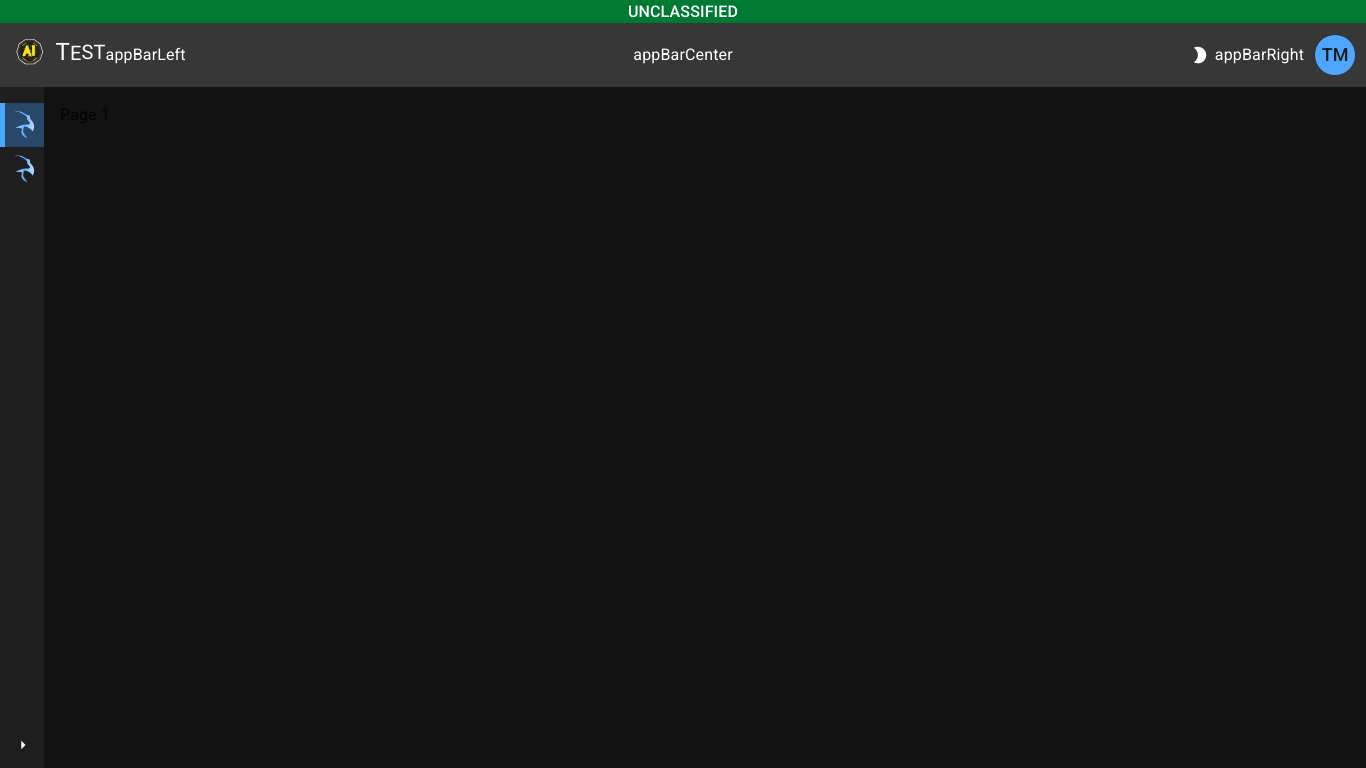
MainLayoutTest › opens user menu
This screenshot has width=1366, height=768.
Click the button with test id "user-menu-button".
click(1335, 55)  # box left=1320, top=40, right=1350, bottom=70
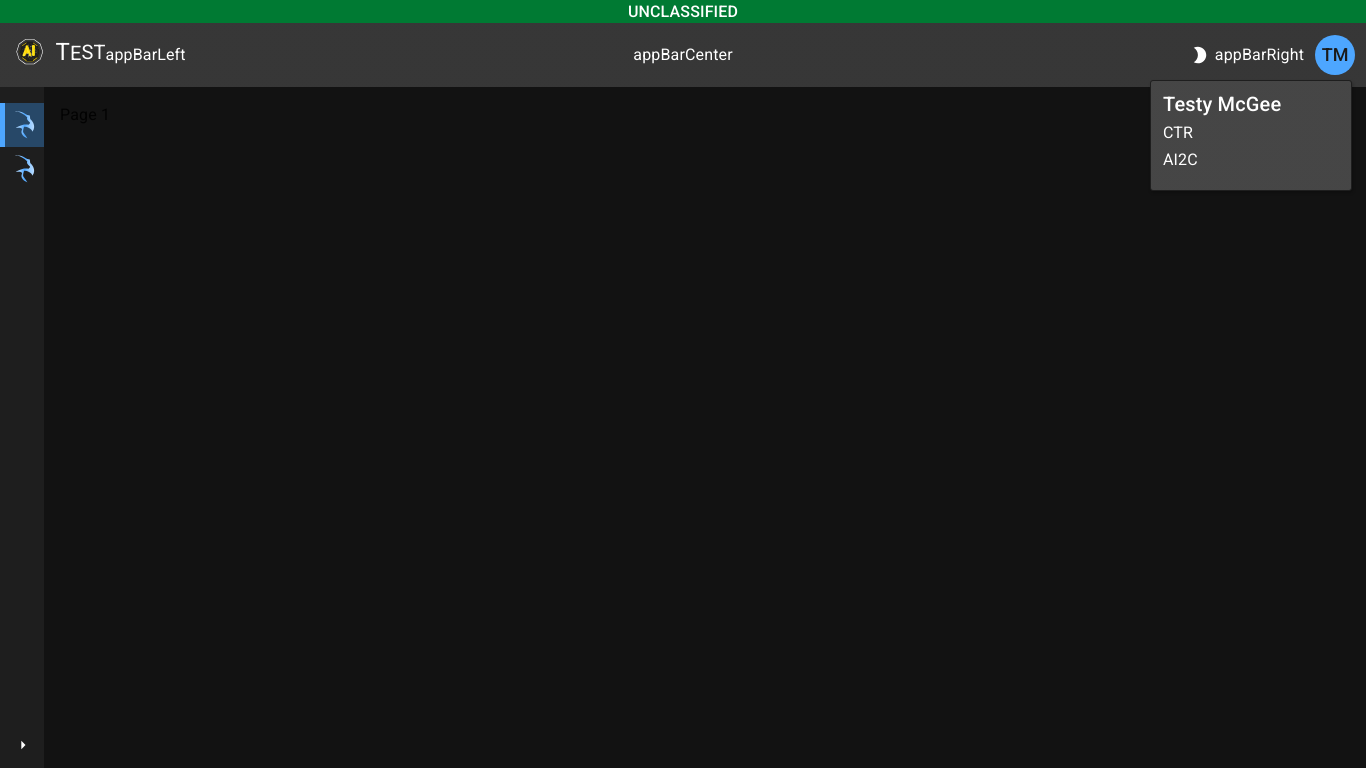
Result: the element with test id "user-menu-popover" is shown at left=1150, top=80, right=1352, bottom=191
